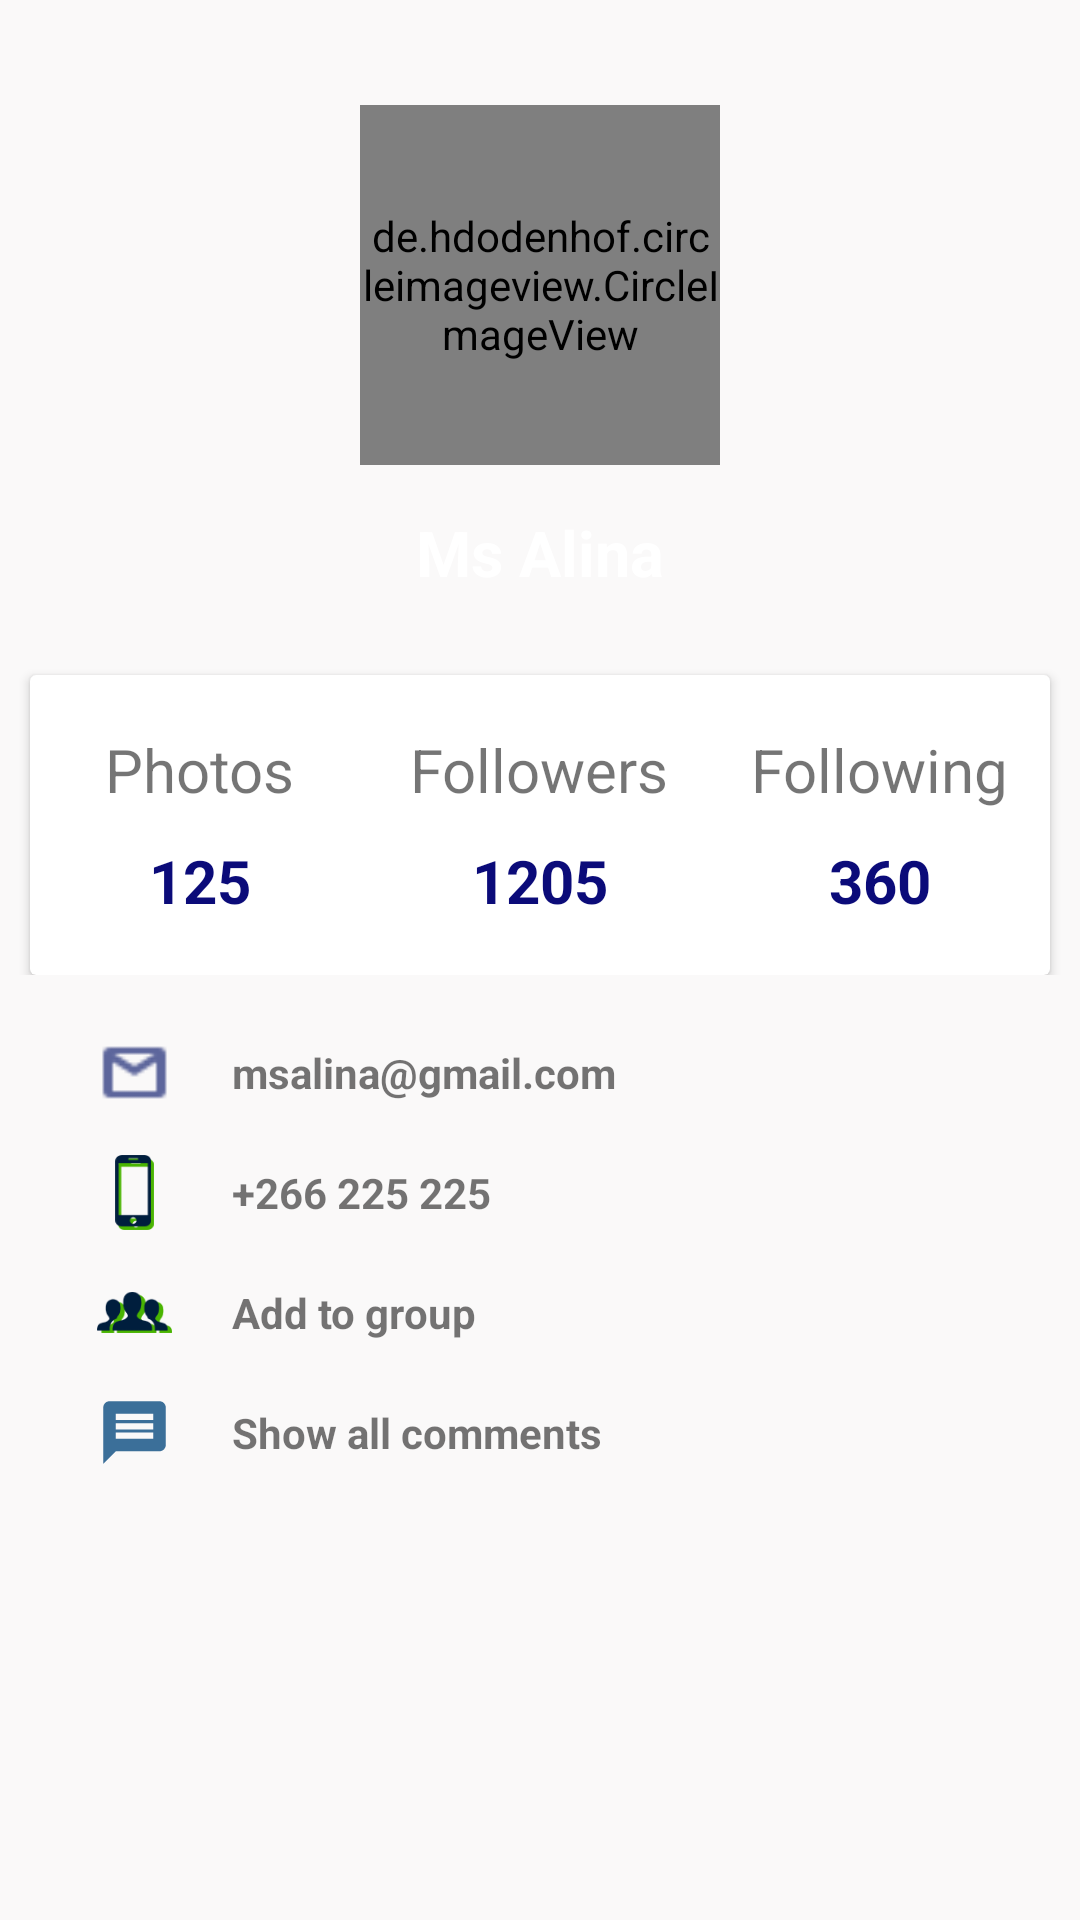

Screen size 1080x1920. Icon name, then its center in pixels as (x,y):
email: (134,1072)
message: (134,1432)
